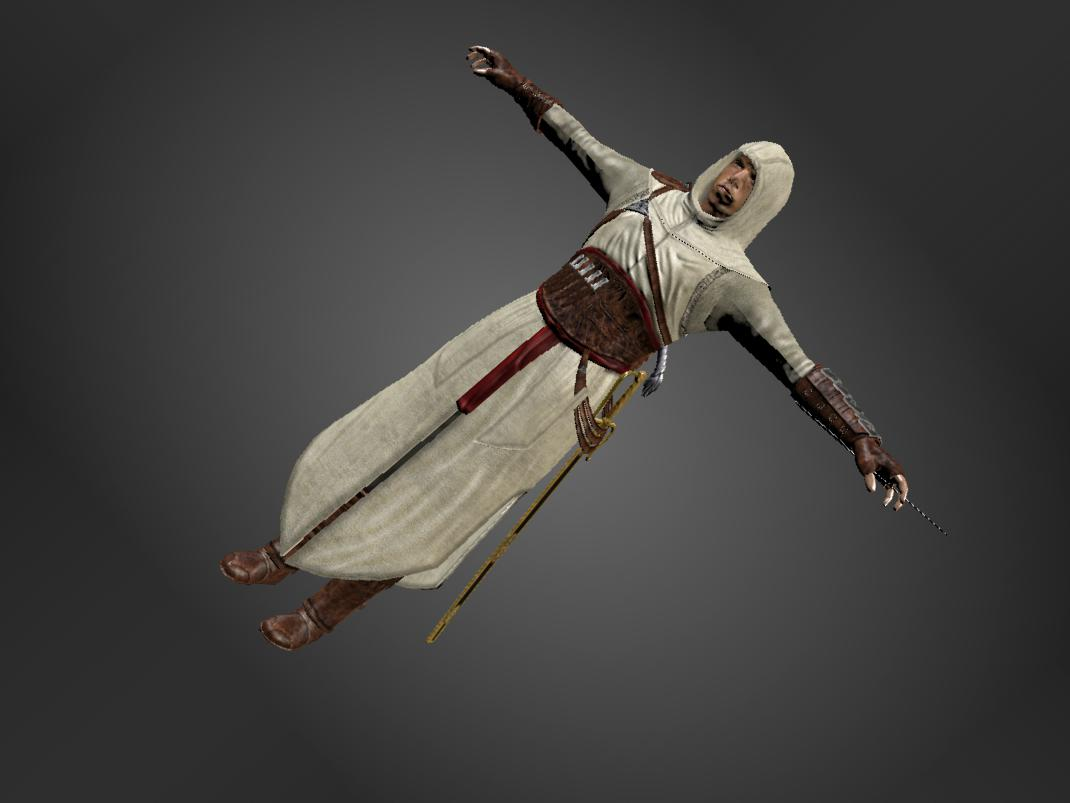clip: (566, 384, 596, 410)
